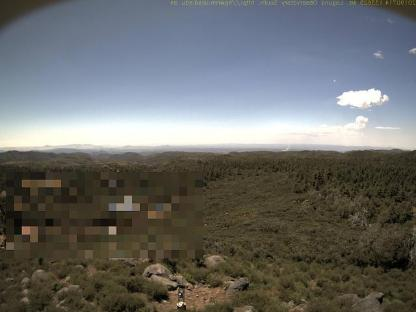smoke: (280, 138, 294, 150)
